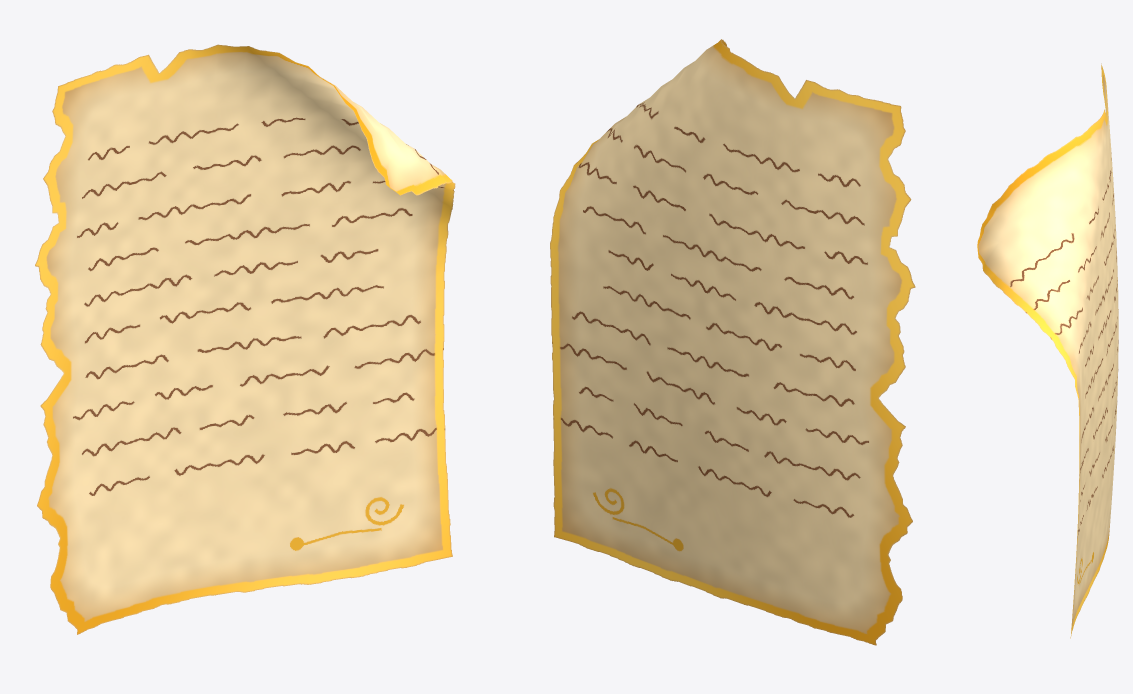
Rendered from lost_page.glb.
The picture shows the model from 3 angles, left to right: view 1: azimuth 30°, elevation 25°; view 2: azimuth 150°, elevation 25°; view 3: azimuth 270°, elevation 25°; orthographic projection. The views are drawn at different scales.
Visible parts, largest first — view 1: LostPage; view 2: LostPage; view 3: LostPage.
Part boxes in pixels (left/top/right/bottom): LostPage: left=35, top=44, right=455, bottom=634; LostPage: left=550, top=39, right=915, bottom=645; LostPage: left=977, top=63, right=1118, bottom=638.
Bounding box in the file's own units: 0.45 × 0.6 × 0.159.
1 material, 1 textured.
